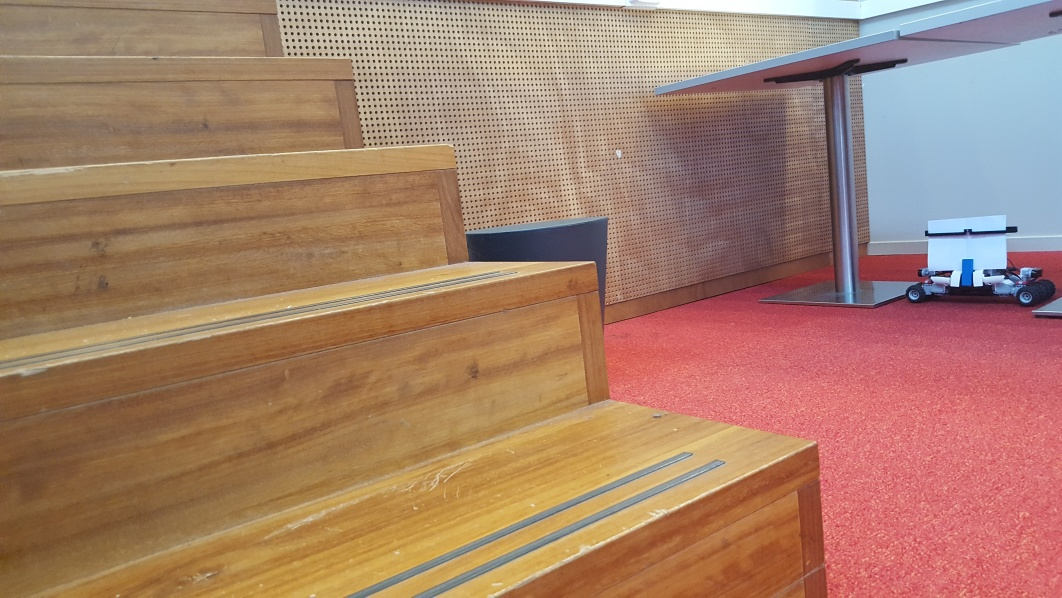car: (905, 213, 1056, 312)
